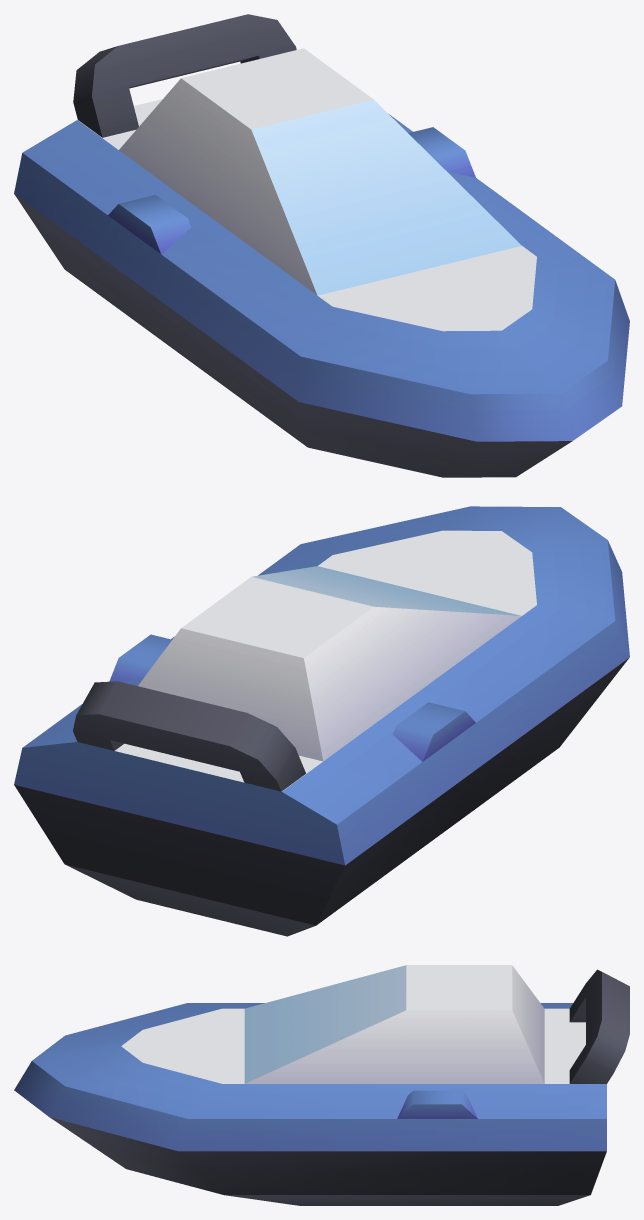
Rendered from boat-speed-g-transformed.glb.
The picture shows the model from 3 angles, top to bottom: view 1: azimuth 30°, elevation 25°; view 2: azimuth 150°, elevation 25°; view 3: azimuth 270°, elevation 25°; orthographic projection. The views are drawn at different scales.
Visible parts, largest first — view 1: boat-speed-g; view 2: boat-speed-g; view 3: boat-speed-g.
Boxes of the visible parts, x1,y1,x2,y2 form: boat-speed-g: (14, 14, 629, 477); boat-speed-g: (14, 506, 629, 936); boat-speed-g: (14, 965, 629, 1205).
Bounding box in the file's own units: 1.79 × 1.3 × 3.81.
Materials: 1 (1 with a texture image).
